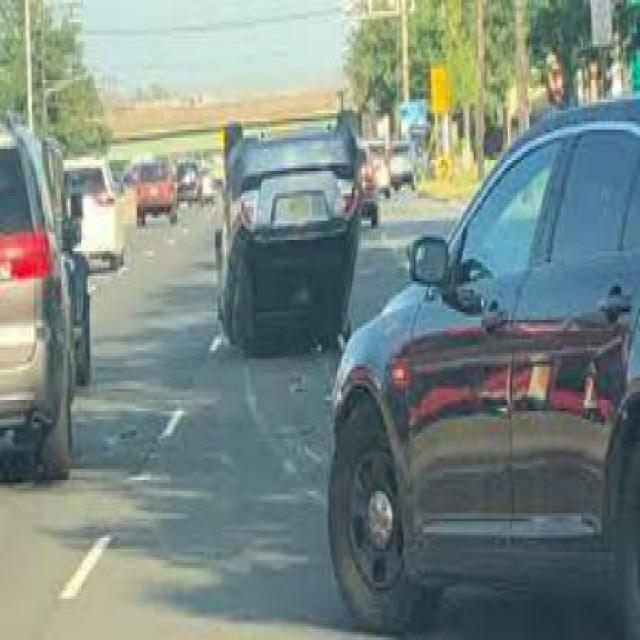accident: (200, 88, 357, 364)
